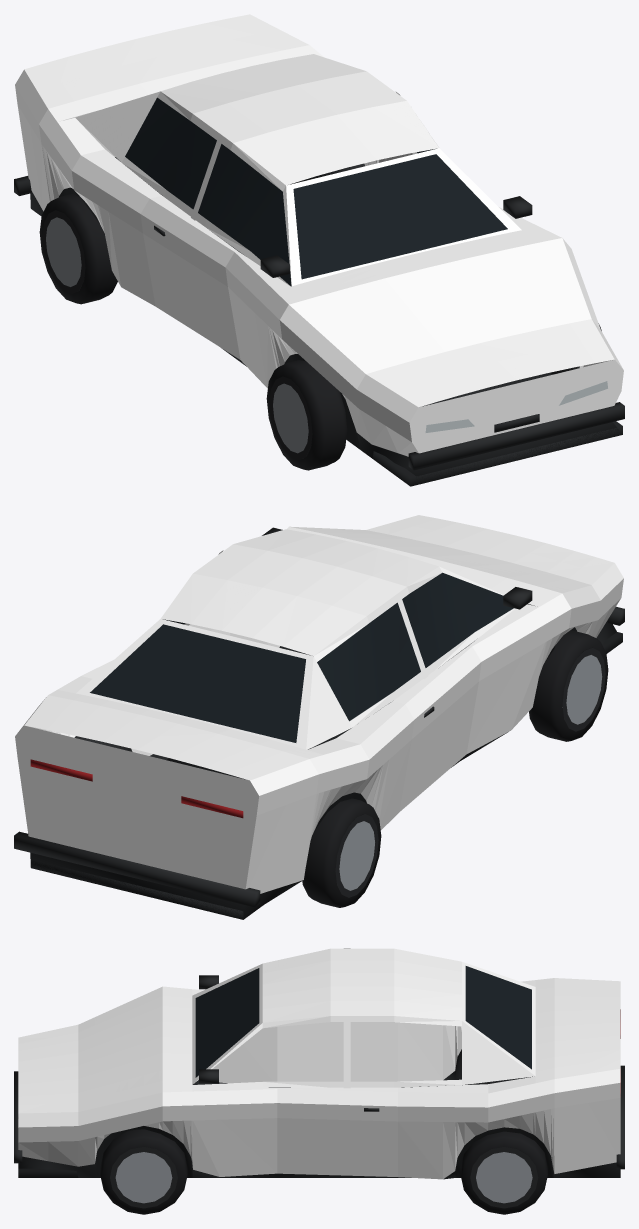
File: lindauer_friso.glb
3 views of the same model, one above another, from view 1: azimuth 30°, elevation 25°; view 2: azimuth 150°, elevation 25°; view 3: azimuth 270°, elevation 25° (orthographic). The views are drawn at different scales.
Visible parts, largest first — view 1: Body_Paint, Body_Details, Mount_FrontLeft_Wheel_Details, Mount_RearLeft_Wheel_Details; view 2: Body_Paint, Body_Details, Mount_RearLeft_Wheel_Details, Mount_FrontLeft_Wheel_Details; view 3: Body_Paint, Body_Details, Mount_FrontRight_Wheel_Details, Mount_RearRight_Wheel_Details.
Boxes of the visible parts, x1,y1,x2,y2 form: Body_Paint: (15, 14, 623, 456); Body_Details: (14, 97, 624, 486); Mount_FrontLeft_Wheel_Details: (266, 360, 347, 470); Mount_RearLeft_Wheel_Details: (39, 193, 117, 304); Body_Paint: (15, 515, 623, 893); Body_Details: (14, 527, 624, 919); Mount_RearLeft_Wheel_Details: (302, 798, 381, 907); Mount_FrontLeft_Wheel_Details: (529, 630, 608, 741); Body_Paint: (18, 948, 620, 1179); Body_Details: (14, 966, 624, 1179); Mount_FrontRight_Wheel_Details: (100, 1129, 187, 1214); Mount_RearRight_Wheel_Details: (460, 1131, 547, 1214).
Size of the model in its own units: 1.78 by 1.3 by 3.98.
2 materials, 1 textured.
